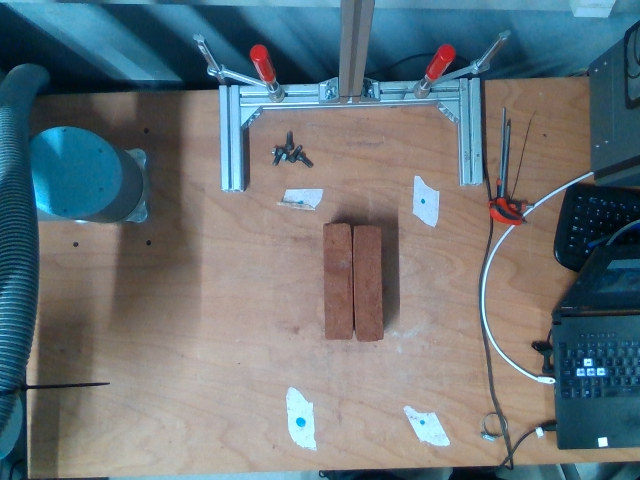brick-side: (324, 224, 351, 336), (354, 228, 381, 340)
